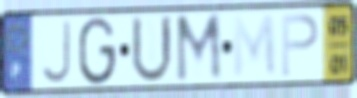G: (76, 14, 118, 88)
J: (38, 19, 73, 87)
M: (173, 10, 224, 86), (231, 12, 279, 81)
P: (279, 13, 321, 80)
U: (129, 13, 176, 86)
